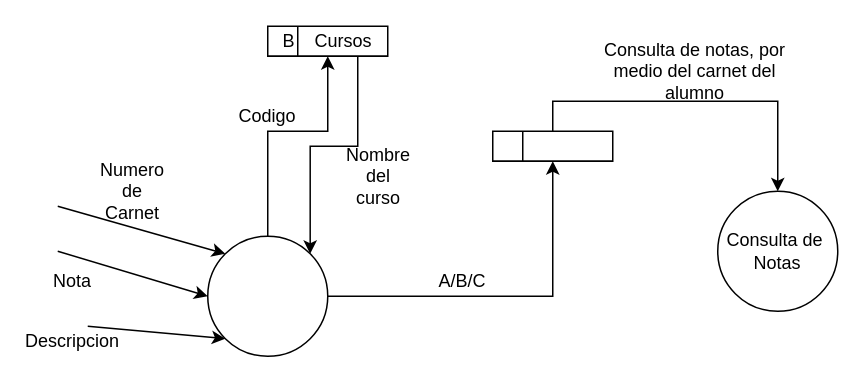
Some shapes in this 864 by 383 pixel diagram are drawn without their labels. Each missing label, with the centre of its shape:
C Notas: the point at 552,145
Proceso Ingreso Nota: the point at 267,295
